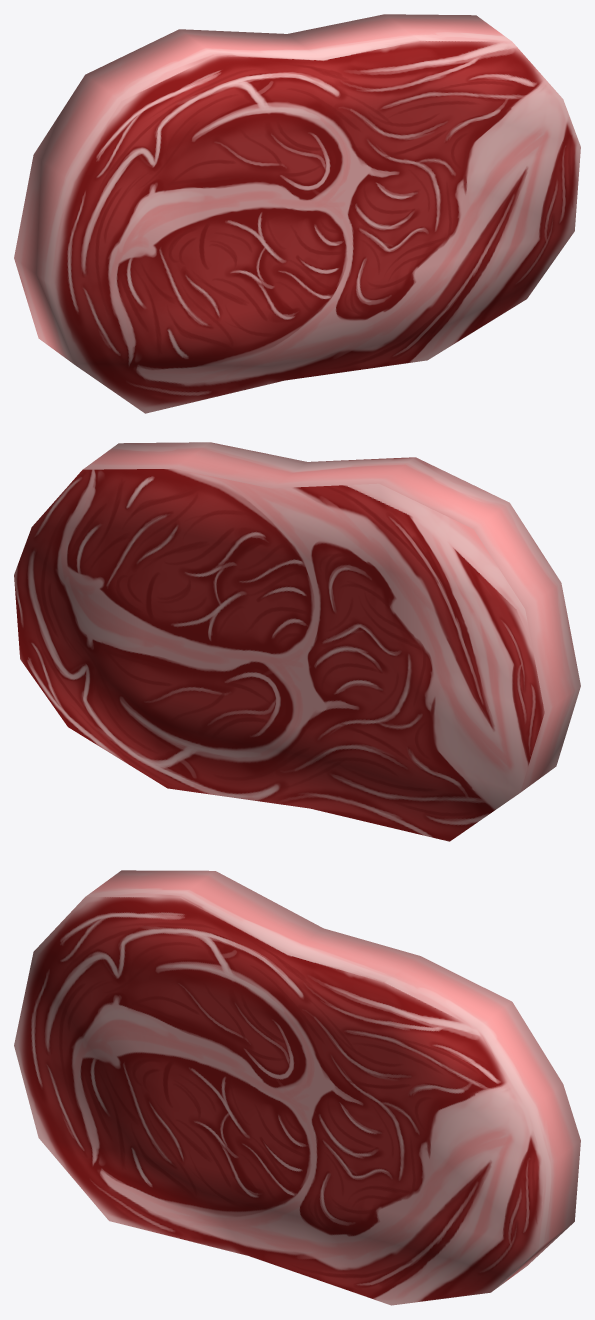
File: ribeye_prime.fbx
3 views of the same model, one above another, from view 1: azimuth 30°, elevation 25°; view 2: azimuth 150°, elevation 25°; view 3: azimuth 330°, elevation 25° (orthographic).
Visible parts, largest first — view 1: Ribeye Prime; view 2: Ribeye Prime; view 3: Ribeye Prime.
Part boxes in pixels (left/top/right/bottom): Ribeye Prime: left=14, top=14, right=580, bottom=413; Ribeye Prime: left=14, top=442, right=580, bottom=841; Ribeye Prime: left=14, top=870, right=580, bottom=1305.
Bounding box in the file's own units: 77.61 × 49.81 × 9.17.
